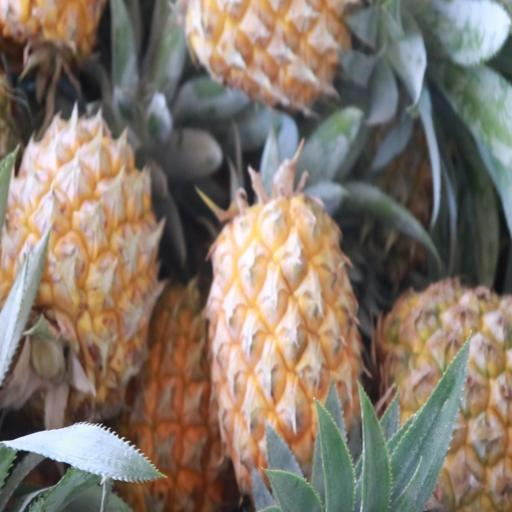Pineapple - v8 v1: (211, 194, 362, 502), (8, 112, 159, 402), (377, 279, 512, 512), (112, 280, 228, 510)
